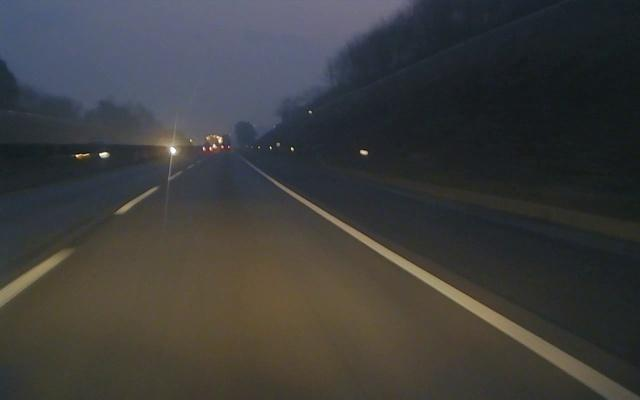lane: (268, 178, 640, 400), (0, 186, 159, 308)
